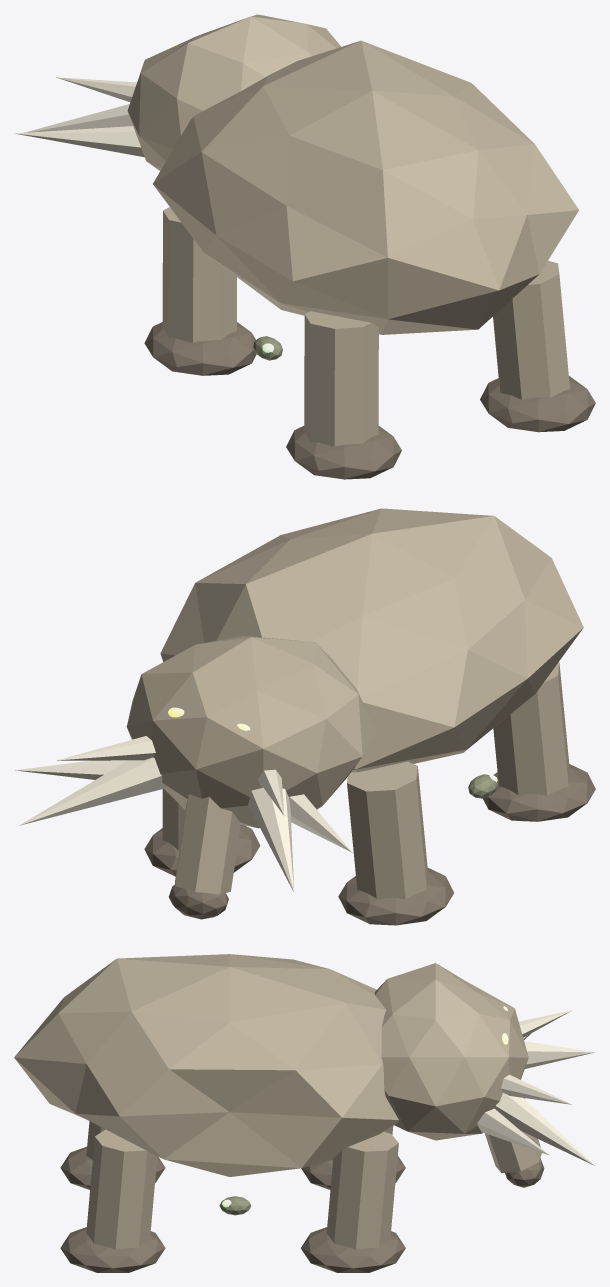
File: boss_08_ivory_behemoth.glb
The picture shows the model from 3 angles, top to bottom: view 1: azimuth 30°, elevation 25°; view 2: azimuth 150°, elevation 25°; view 3: azimuth 270°, elevation 25°; orthographic projection. The views are drawn at different scales.
Visible parts, largest first — view 1: ivory_behemoth_cracked_earth_torso, ivory_behemoth_massive_head, ivory_behemoth_pillar_leg_-1_1, ivory_behemoth_pillar_leg_1_1, ivory_behemoth_pillar_leg_-1_0, ivory_behemoth_cracked_foot_1_1, ivory_behemoth_cracked_foot_-1_1, ivory_behemoth_cracked_foot_-1_0, ivory_behemoth_outer_hook_tusk_-1, ivory_behemoth_primary_sweeping_tusk_-1, ivory_behemoth_upper_prong_tusk_-1; view 2: ivory_behemoth_cracked_earth_torso, ivory_behemoth_massive_head, ivory_behemoth_pillar_leg_-1_0, ivory_behemoth_pillar_leg_-1_1, ivory_behemoth_heavy_trunk, ivory_behemoth_cracked_foot_-1_0, ivory_behemoth_primary_sweeping_tusk_1, ivory_behemoth_cracked_foot_-1_1, ivory_behemoth_primary_sweeping_tusk_-1, ivory_behemoth_cracked_foot_1_0, ivory_behemoth_trunk_tip, ivory_behemoth_upper_prong_tusk_1 (+4 smaller); view 3: ivory_behemoth_cracked_earth_torso, ivory_behemoth_massive_head, ivory_behemoth_pillar_leg_1_1, ivory_behemoth_pillar_leg_1_0, ivory_behemoth_cracked_foot_1_1, ivory_behemoth_cracked_foot_1_0, ivory_behemoth_primary_sweeping_tusk_1, ivory_behemoth_heavy_trunk, ivory_behemoth_outer_hook_tusk_1, ivory_behemoth_cracked_foot_-1_1, ivory_behemoth_primary_sweeping_tusk_-1, ivory_behemoth_upper_prong_tusk_1 (+4 smaller).
Boxes of the visible parts, x1,y1,x2,y2 form: ivory_behemoth_cracked_earth_torso: (153,40,578,334); ivory_behemoth_massive_head: (127,14,340,170); ivory_behemoth_pillar_leg_-1_1: (304,311,378,446); ivory_behemoth_pillar_leg_1_1: (493,260,569,399); ivory_behemoth_pillar_leg_-1_0: (162,207,236,342); ivory_behemoth_cracked_foot_1_1: (480,376,595,432); ivory_behemoth_cracked_foot_-1_1: (286,426,401,479); ivory_behemoth_cracked_foot_-1_0: (144,322,256,375); ivory_behemoth_outer_hook_tusk_-1: (15,126,144,157); ivory_behemoth_primary_sweeping_tusk_-1: (24,104,132,132); ivory_behemoth_upper_prong_tusk_-1: (56,77,136,102); ivory_behemoth_cracked_earth_torso: (160,508,583,772); ivory_behemoth_massive_head: (126,636,376,828); ivory_behemoth_pillar_leg_-1_0: (347,761,428,899); ivory_behemoth_pillar_leg_-1_1: (493,662,569,795); ivory_behemoth_heavy_trunk: (175,794,240,894); ivory_behemoth_cracked_foot_-1_0: (338,868,453,925); ivory_behemoth_primary_sweeping_tusk_1: (19,757,166,825); ivory_behemoth_cracked_foot_-1_1: (483,764,595,821); ivory_behemoth_primary_sweeping_tusk_-1: (248,788,294,892); ivory_behemoth_cracked_foot_1_0: (144,824,260,876); ivory_behemoth_trunk_tip: (168,884,228,919); ivory_behemoth_upper_prong_tusk_1: (56,736,155,760); ivory_behemoth_cracked_earth_torso: (14,954,398,1176); ivory_behemoth_massive_head: (374,963,528,1140); ivory_behemoth_pillar_leg_1_1: (86,1129,157,1249); ivory_behemoth_pillar_leg_1_0: (326,1132,398,1249); ivory_behemoth_cracked_foot_1_1: (60,1227,165,1272); ivory_behemoth_cracked_foot_1_0: (301,1227,405,1272); ivory_behemoth_primary_sweeping_tusk_1: (495,1093,594,1165); ivory_behemoth_heavy_trunk: (485,1098,541,1173); ivory_behemoth_outer_hook_tusk_1: (477,1108,549,1155); ivory_behemoth_cracked_foot_-1_1: (60,1146,165,1189); ivory_behemoth_primary_sweeping_tusk_-1: (524,1041,594,1068); ivory_behemoth_upper_prong_tusk_1: (501,1074,572,1104).
Bounding box in the file's own units: 2.9 × 2.48 × 5.08.
